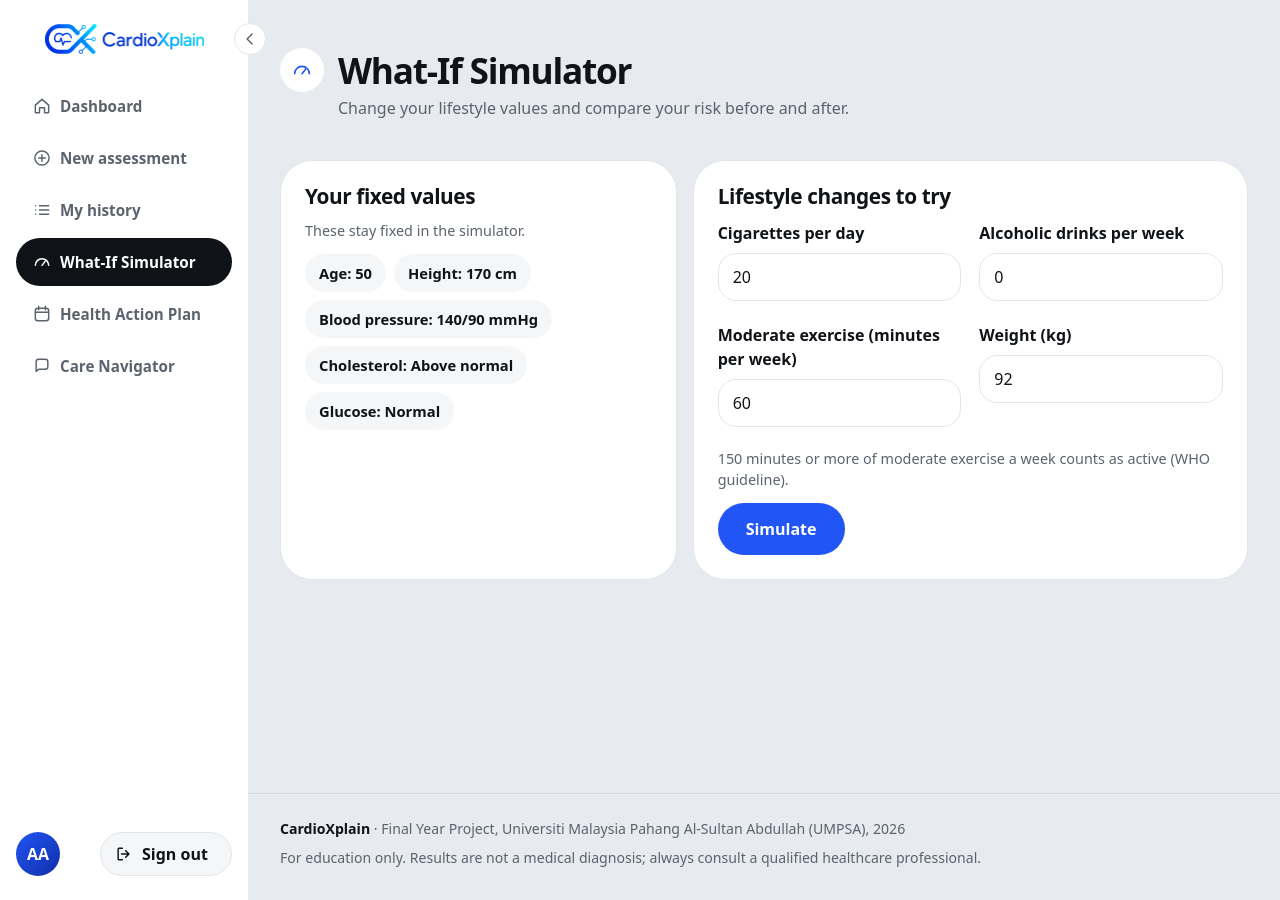
Test case: simulator asks for a change before simulating
The width and height of the screenshot is (1280, 900).
Click the button "Simulate" at coordinates (781, 529), box [718,503,845,555]
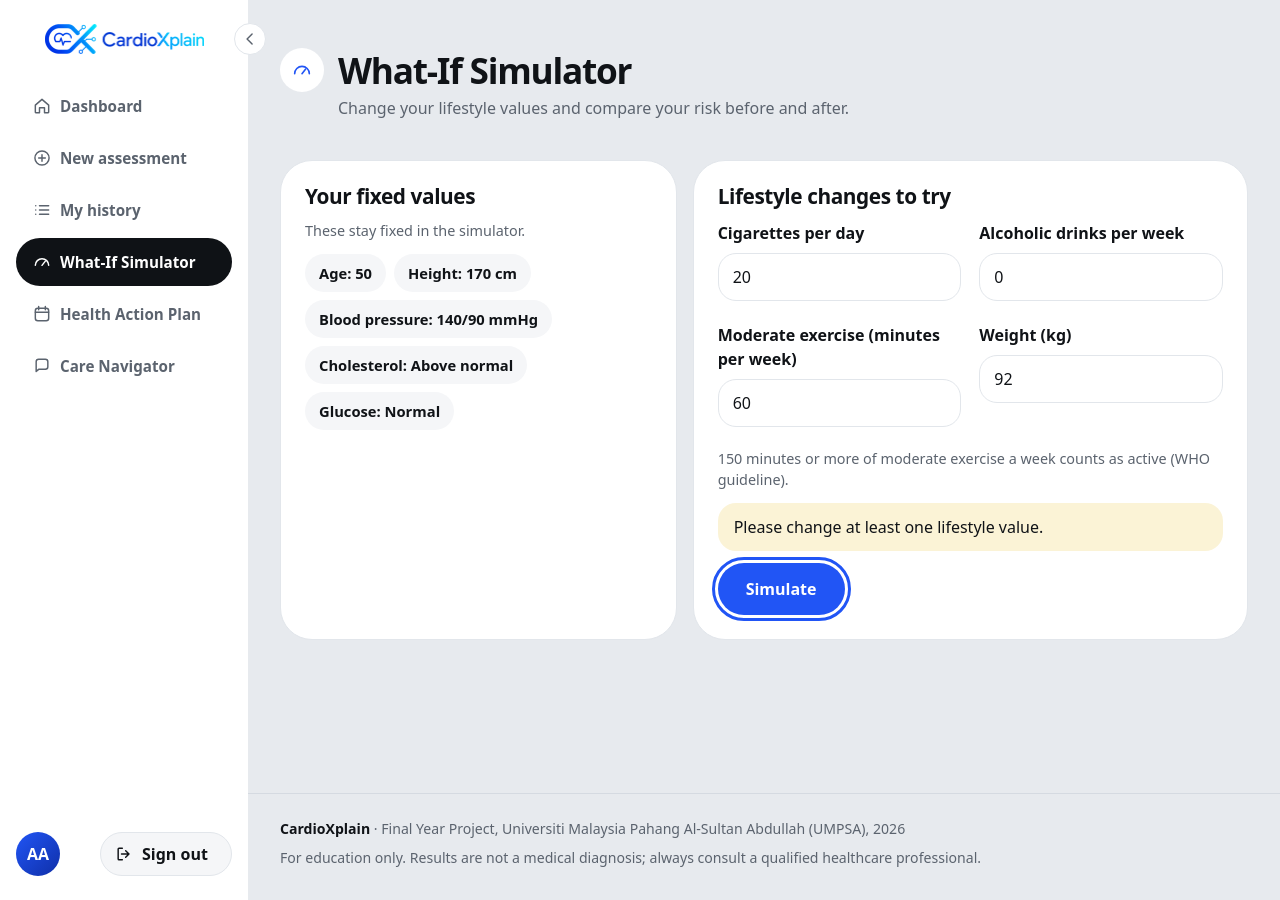
Expected: the text "Please change at least one lifestyle value." is shown, [718,503,1223,551]
